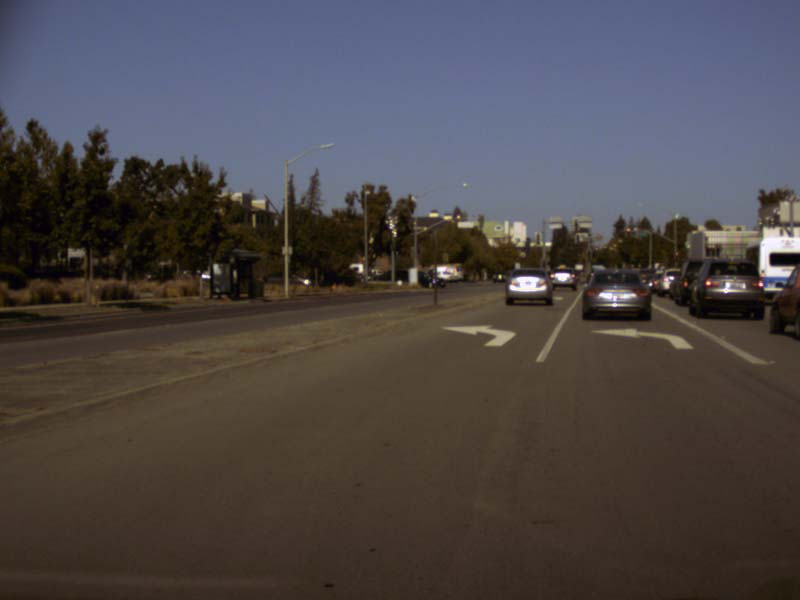Red: (625, 226, 630, 237), (674, 251, 678, 262)
